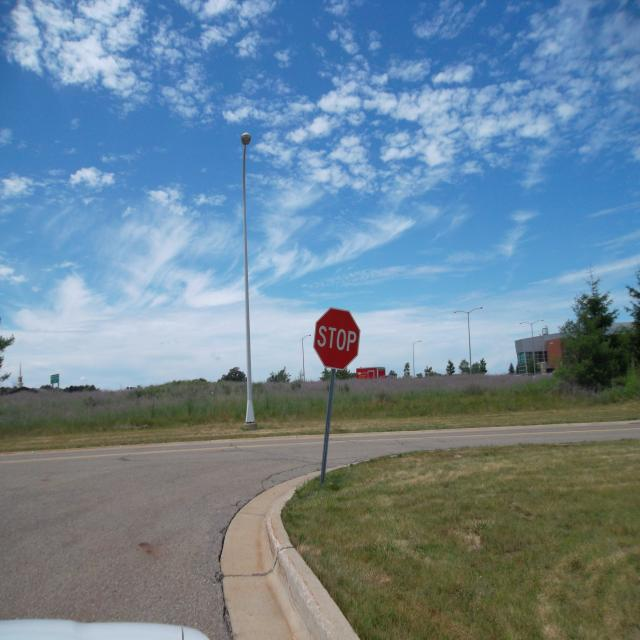stop: (310, 302, 363, 375)
